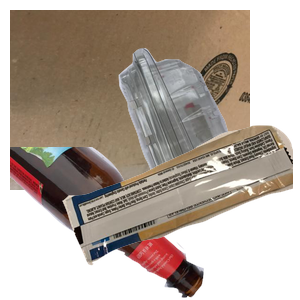cardboard: (10, 10, 250, 190)
glass: (10, 147, 207, 300)
plastic: (71, 45, 300, 225)
trash: (60, 123, 300, 300)
